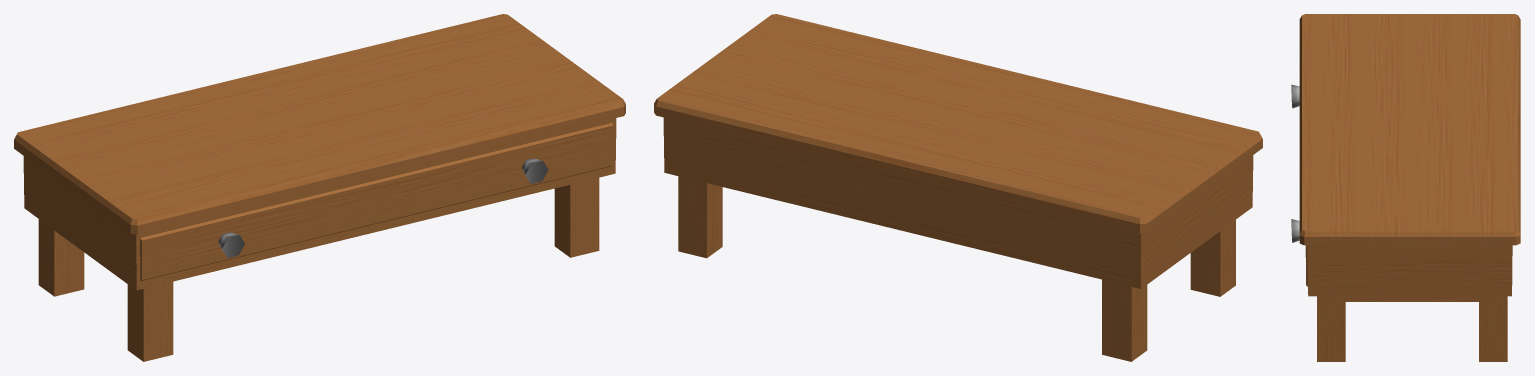
The model's file is Coffee_Table_B_7.FBX.
The picture shows the model from 3 angles, left to right: view 1: azimuth 30°, elevation 25°; view 2: azimuth 150°, elevation 25°; view 3: azimuth 270°, elevation 25°; orthographic projection. The views are drawn at different scales.
Parts seen in each view (by area): view 1: Coffee Table_B; view 2: Coffee Table_B; view 3: Coffee Table_B.
Boxes of the visible parts, x1,y1,x2,y2 form: Coffee Table_B: [14, 14, 625, 361]; Coffee Table_B: [654, 14, 1262, 361]; Coffee Table_B: [1291, 14, 1520, 361].
Bounding box in the file's own units: 201 × 58.91 × 88.61.
